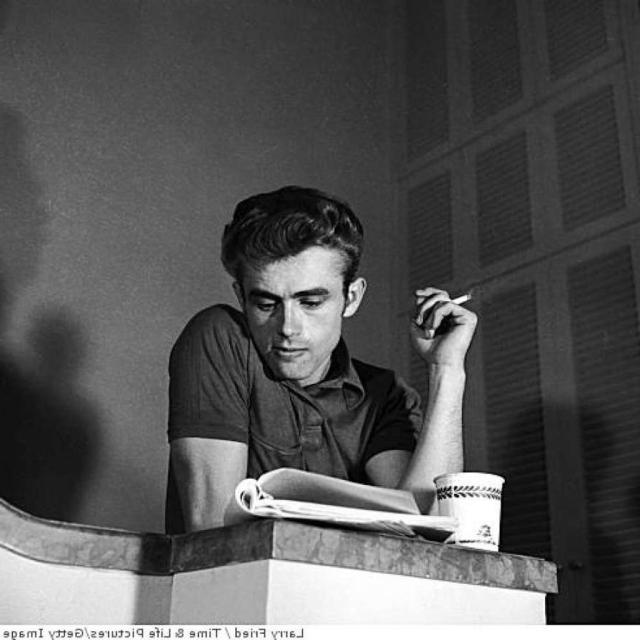smoking: (190, 172, 491, 395)
